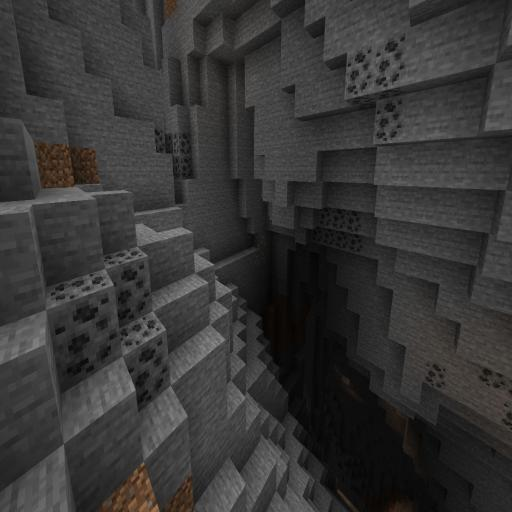coal ore: (39, 226, 172, 410), (350, 46, 410, 146), (307, 202, 363, 258), (151, 125, 194, 183), (480, 361, 512, 429), (420, 356, 447, 402)
